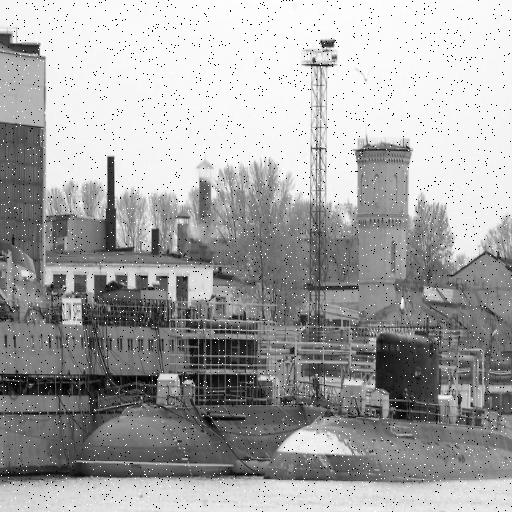submarine: (264, 332, 512, 478), (78, 389, 359, 474)
